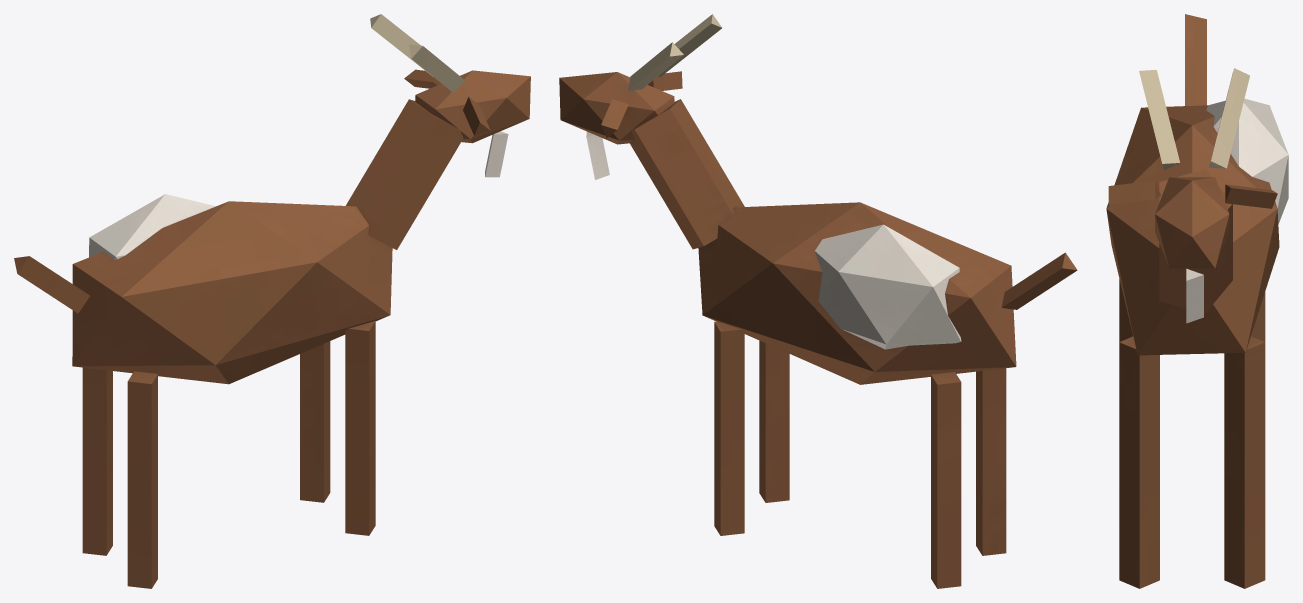
Rendered from get_2_tex.glb.
3 views of the same model, side by side, from view 1: azimuth 30°, elevation 25°; view 2: azimuth 150°, elevation 25°; view 3: azimuth 270°, elevation 25° (orthographic). The views are drawn at different scales.
Visible parts, largest first — view 1: get_2; view 2: get_2; view 3: get_2.
Part boxes in pixels (x1,y1,x2,y2): get_2: [14, 14, 530, 588]; get_2: [559, 14, 1077, 588]; get_2: [1106, 14, 1288, 588].
Bounding box in the file's own units: 1.19 × 1.03 × 0.3121.
3 materials, 3 textured.
